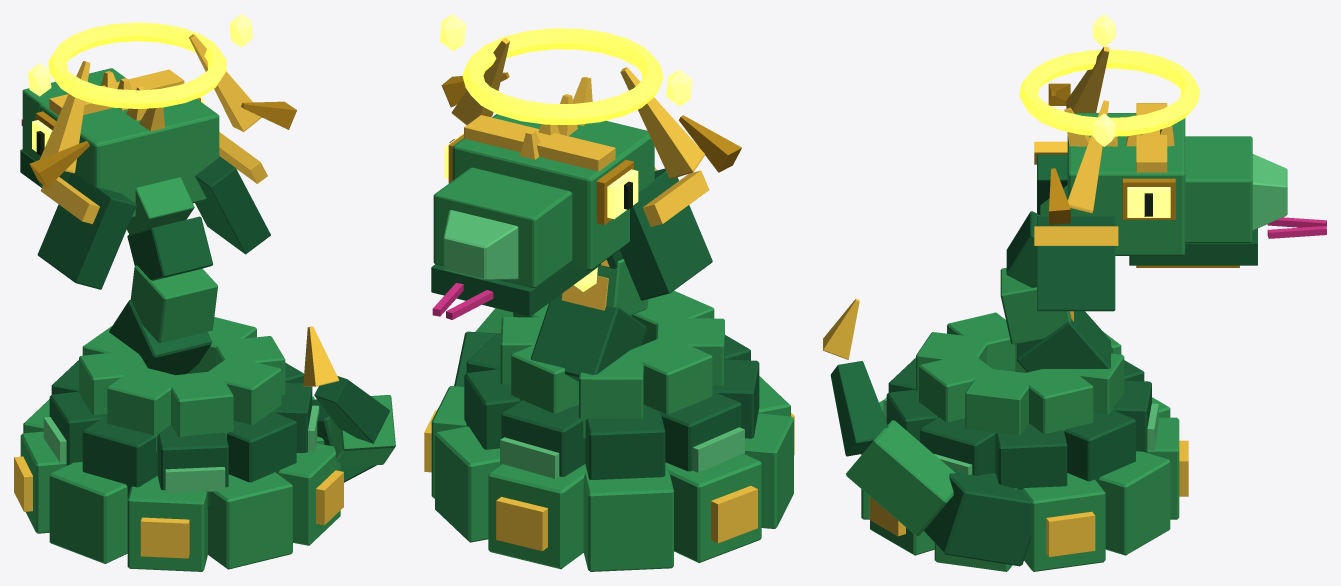
File: king-snake.glb
3 views of the same model, side by side, from view 1: azimuth 30°, elevation 25°; view 2: azimuth 150°, elevation 25°; view 3: azimuth 270°, elevation 25° (orthographic). The views are drawn at different scales.
Visible parts, largest first — view 1: body, head, tail, ear.R, ear.L; view 2: body, head, ear.R, ear.L, tail; view 3: body, head, tail, ear.L, ear.R.
Boxes of the visible parts, x1,y1,x2,y2 form: body: (14, 177, 343, 571); head: (20, 22, 270, 289); tail: (303, 326, 395, 482); ear.R: (28, 61, 90, 188); ear.L: (189, 14, 296, 131); body: (424, 250, 794, 571); head: (431, 28, 712, 319); ear.R: (620, 67, 741, 179); ear.L: (440, 14, 509, 125); tail: (454, 167, 657, 386); body: (861, 185, 1188, 571); head: (1019, 49, 1326, 311); tail: (823, 299, 1030, 566); ear.L: (1048, 100, 1115, 225); ear.R: (1048, 14, 1115, 112).
Size of the model in its own units: 0.7054 by 0.9527 by 0.9876.
